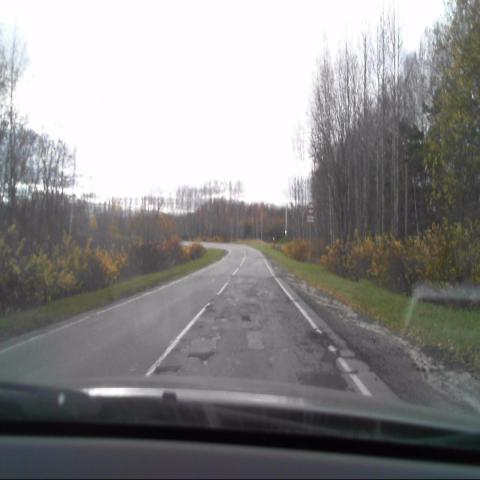3_20: (307, 203, 314, 214)
